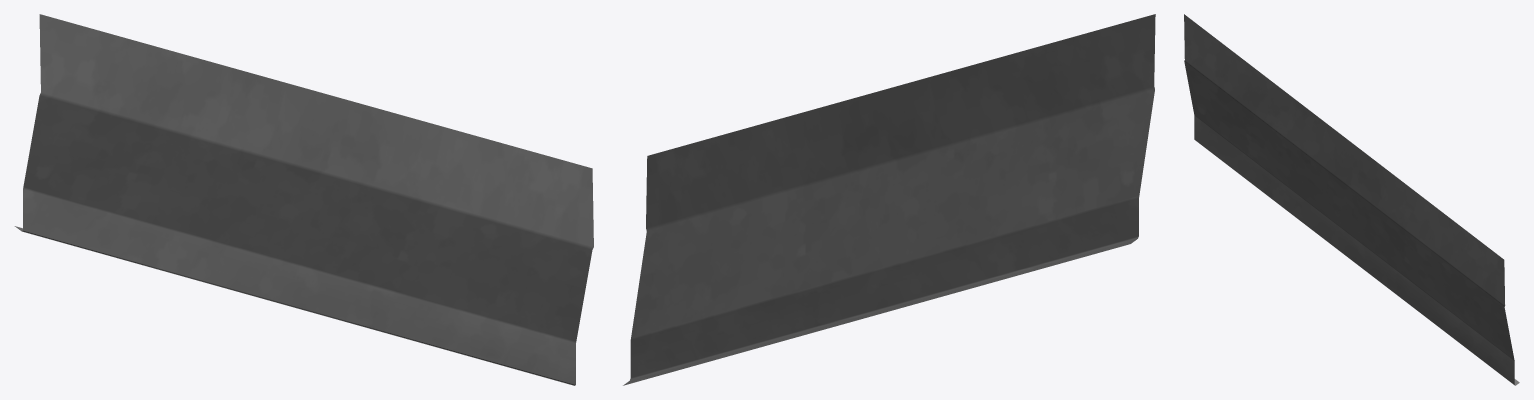
File: TrimV3_RoofHalf.fbx
3 renders of one model, left to right at view 1: azimuth 30°, elevation 25°; view 2: azimuth 150°, elevation 25°; view 3: azimuth 330°, elevation 25°, orthographic. The views are drawn at different scales.
Parts seen in each view (by area): view 1: TrimV3_RoofHalf; view 2: TrimV3_RoofHalf; view 3: TrimV3_RoofHalf.
Part boxes in pixels (bbox=[...]): TrimV3_RoofHalf: bbox=[14, 14, 593, 385]; TrimV3_RoofHalf: bbox=[623, 14, 1155, 385]; TrimV3_RoofHalf: bbox=[1184, 14, 1519, 385].
Size of the model in its own units: 251 by 225 by 20.55.
1 material, 1 textured.
